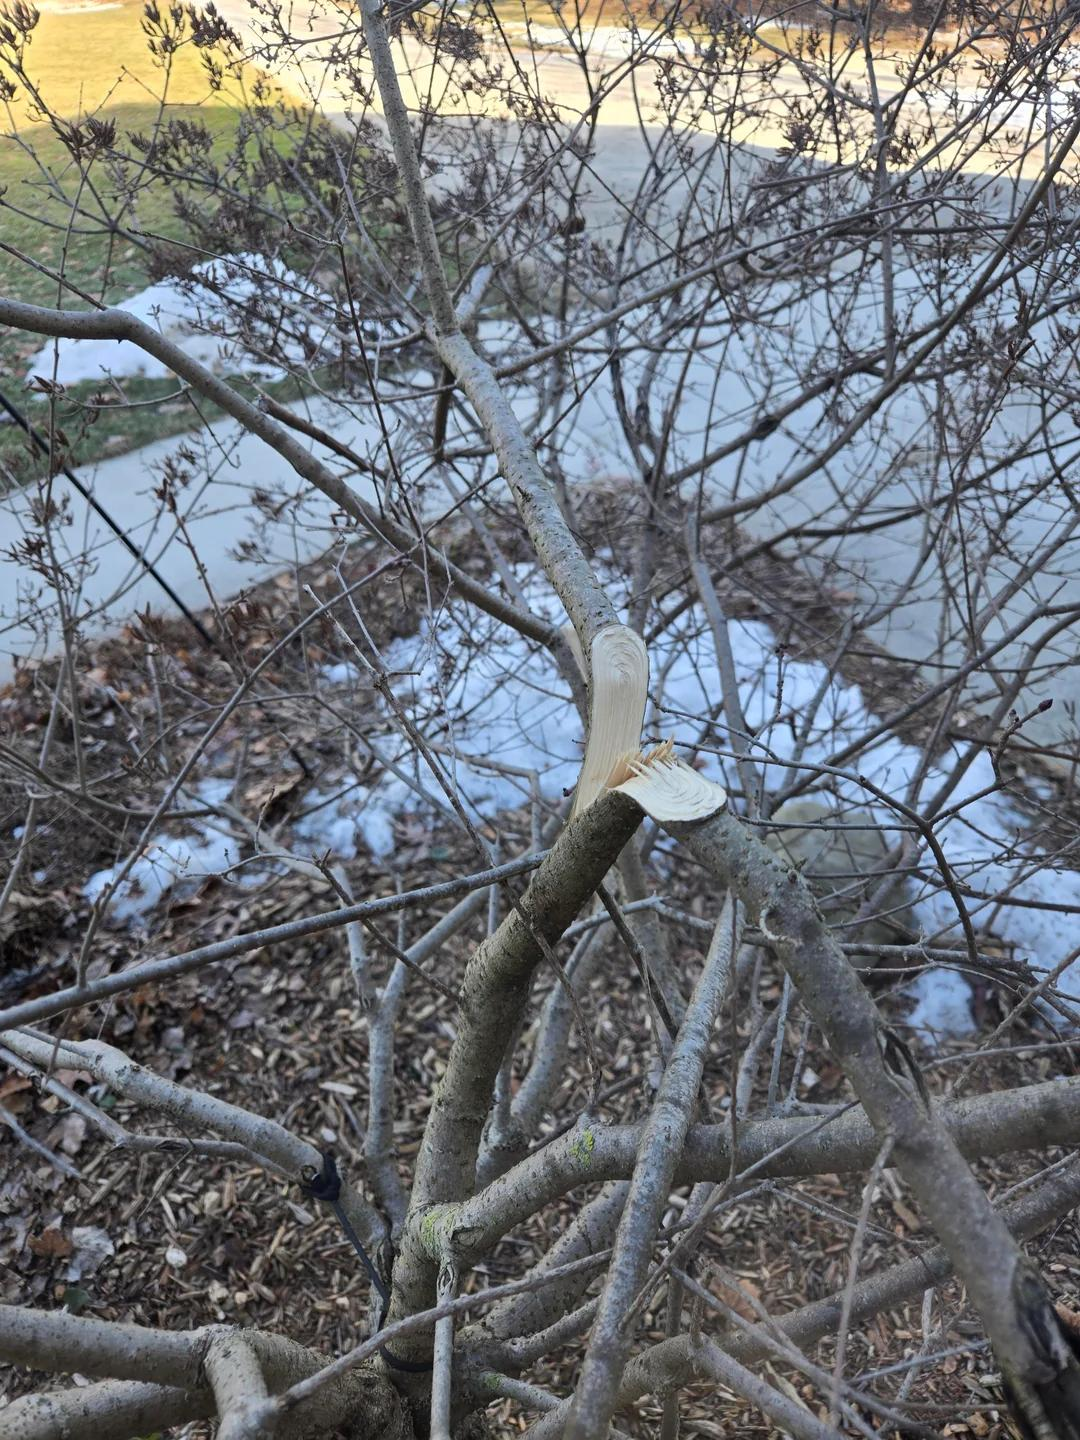mechanical damage: (571, 624, 648, 818), (614, 742, 726, 825)
